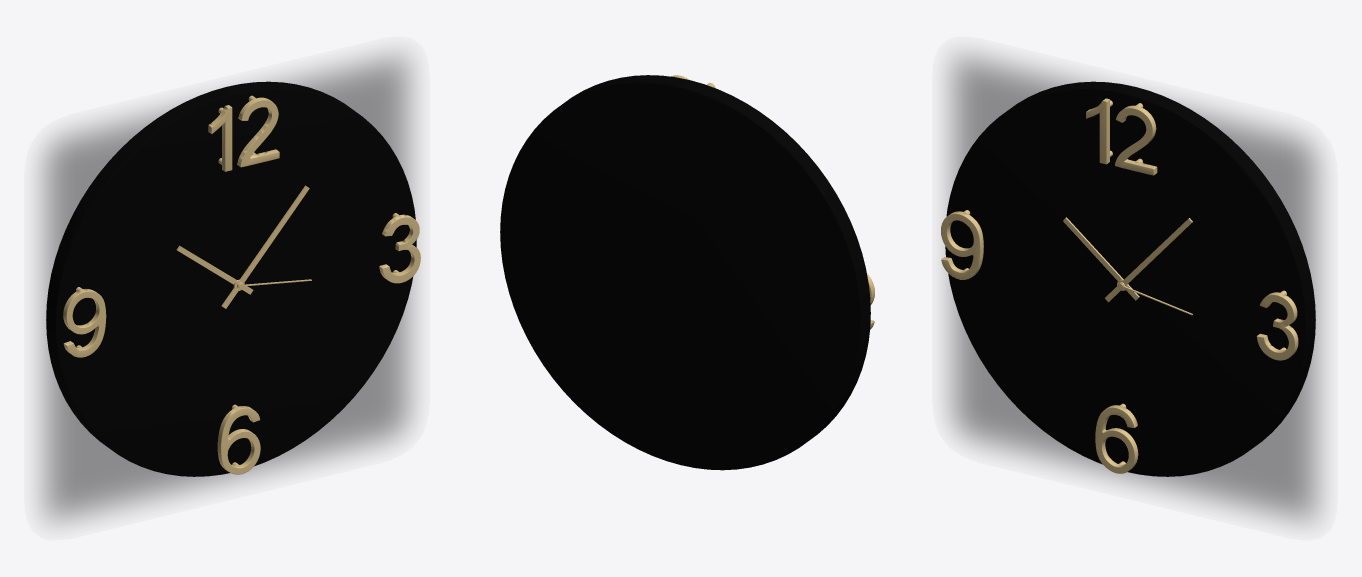
File: abo-b07b8pxmrt.bf80b03729.ar.glb
3 views of the same model, side by side, from view 1: azimuth 30°, elevation 25°; view 2: azimuth 150°, elevation 25°; view 3: azimuth 330°, elevation 25° (orthographic).
Parts seen in each view (by area): view 1: RootNode, object 2; view 2: RootNode; view 3: RootNode, object 2.
Boxes of the visible parts, bbox=[...] form: RootNode: bbox=[46, 81, 420, 476]; object 2: bbox=[39, 54, 414, 522]; RootNode: bbox=[500, 75, 874, 470]; RootNode: bbox=[941, 81, 1315, 476]; object 2: bbox=[947, 54, 1322, 522].
Size of the model in its own units: 0.5339 by 0.5339 by 0.0377.
2 materials, 2 textured.
